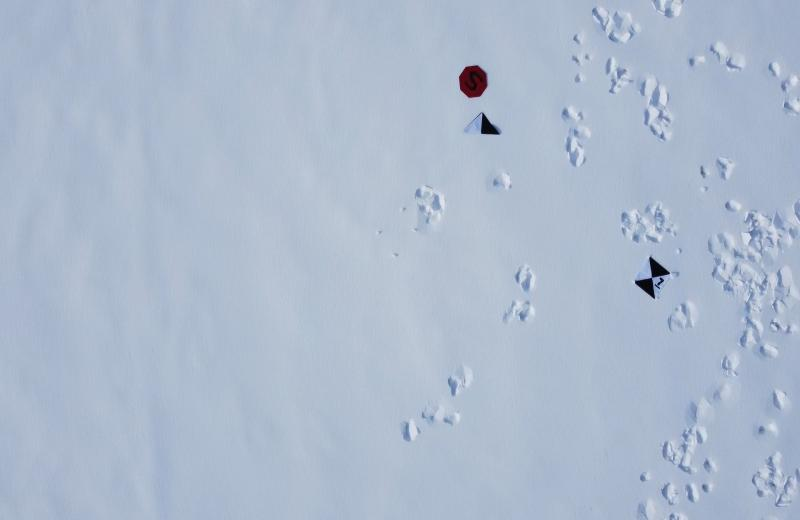Octagon: (458, 64, 489, 98)
